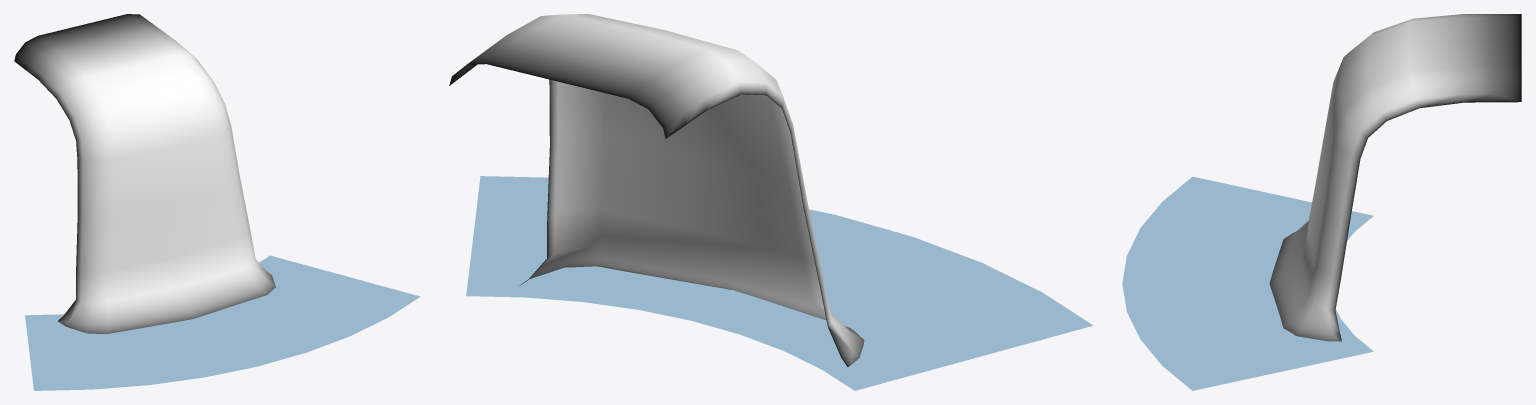
File: SM_Waterfall4.fbx
3 renders of one model, left to right at view 1: azimuth 30°, elevation 25°; view 2: azimuth 150°, elevation 25°; view 3: azimuth 270°, elevation 25°, orthographic. The views are drawn at different scales.
Parts seen in each view (by area): view 1: SM_Waterfall4; view 2: SM_Waterfall4; view 3: SM_Waterfall4.
Boxes of the visible parts, x1,y1,x2,y2 form: SM_Waterfall4: [14, 14, 420, 390]; SM_Waterfall4: [449, 14, 1093, 390]; SM_Waterfall4: [1122, 14, 1521, 390].
Bounding box in the file's own units: 1281 × 679 × 1008.
